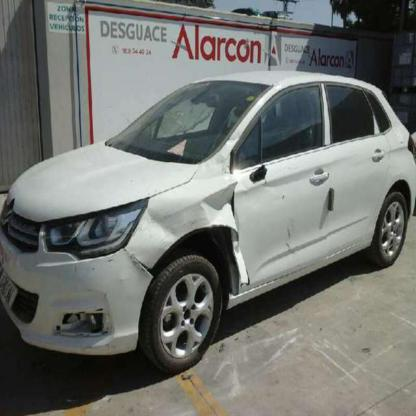door: (234, 132, 390, 293)
front_bumper: (1, 228, 153, 354)
headlamp: (43, 200, 148, 259)
hood: (6, 142, 200, 222)
